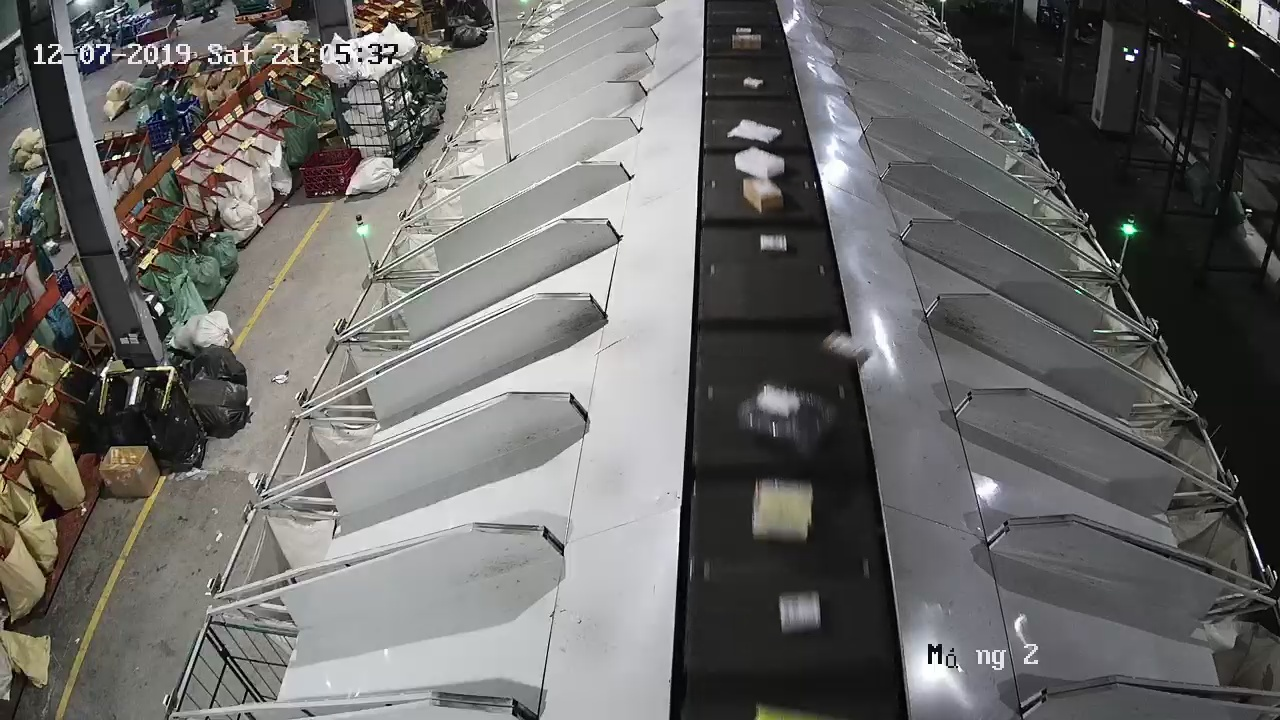parcel: (820, 328, 869, 364)
